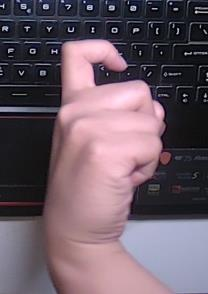anticlockwise: (39, 35, 168, 236)
